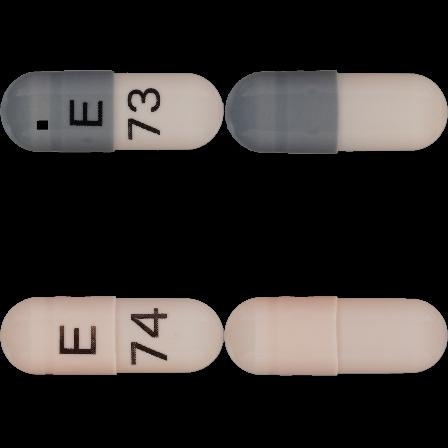65862-527: (0, 0, 224, 224)
